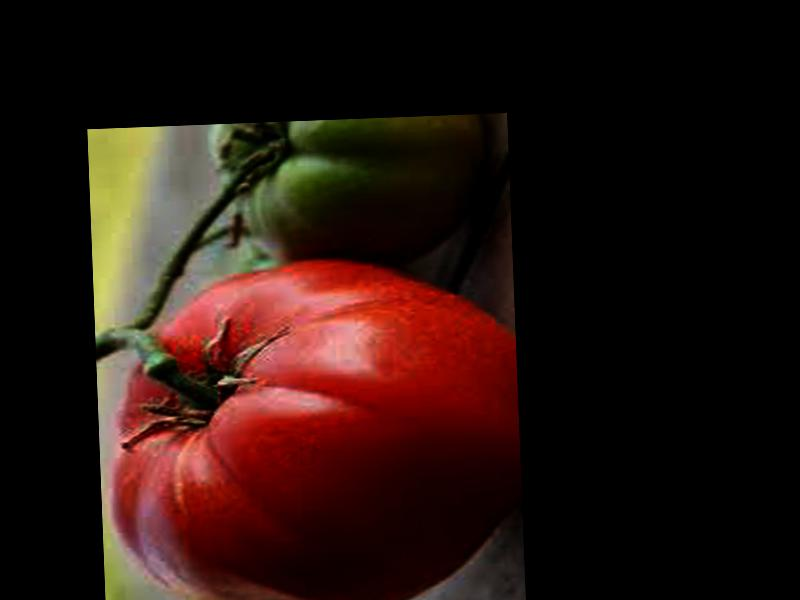Tomato: (100, 253, 526, 600)
